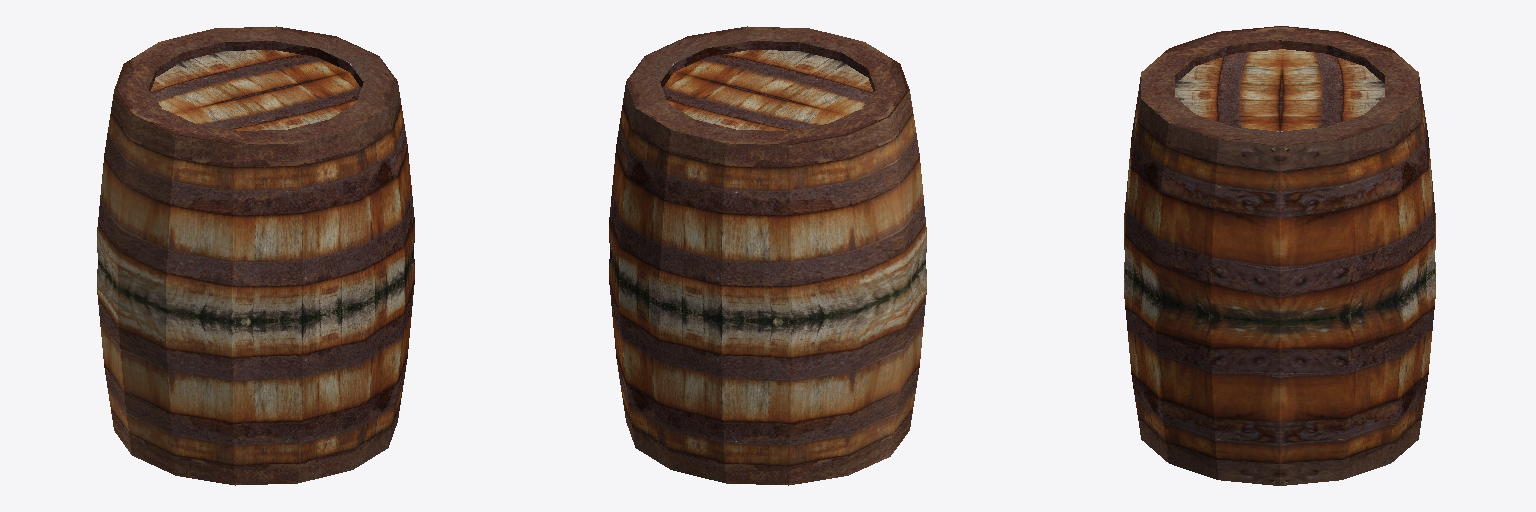
The picture shows the model from 3 angles: view 1: azimuth 30°, elevation 25°; view 2: azimuth 150°, elevation 25°; view 3: azimuth 270°, elevation 25°; orthographic projection.
Parts seen in each view (by area): view 1: half_barrell; view 2: half_barrell; view 3: half_barrell.
Part boxes in pixels (x1,y1,x2,y2): half_barrell: (97,26,414,485); half_barrell: (609,26,926,485); half_barrell: (1124,26,1435,485).
Bounding box in the file's own units: 30.4 × 35.71 × 29.63.
1 materials, 1 textured.